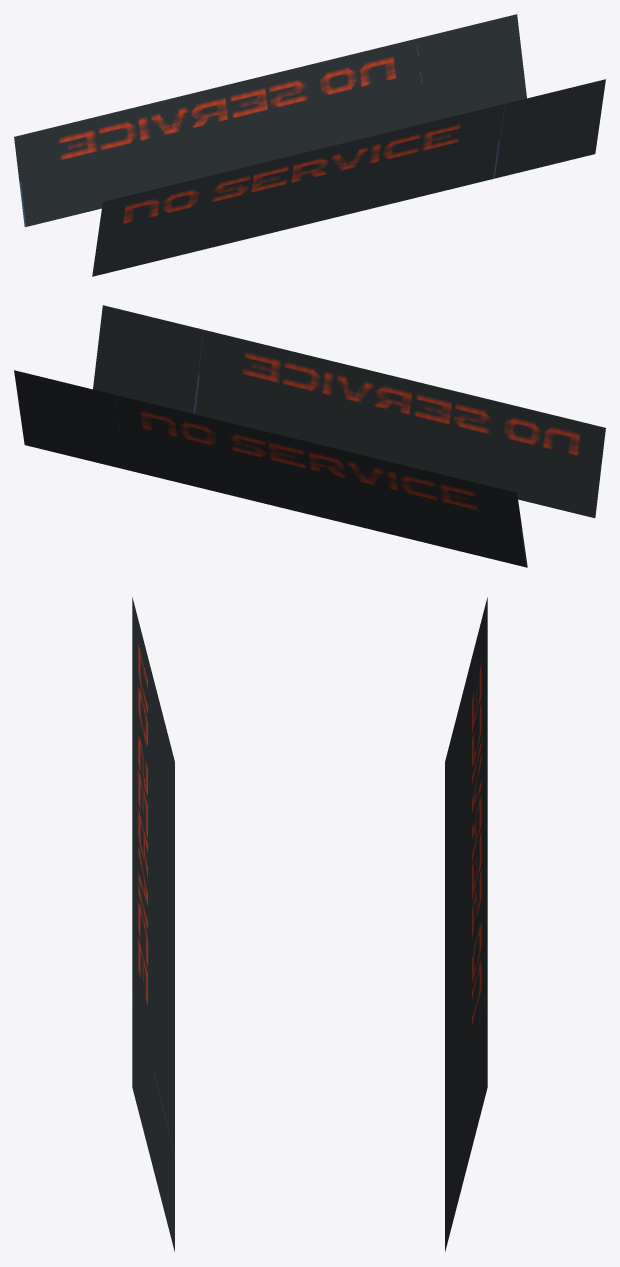
Rendered from SW_PROP_NextTrainSign_NoService.fbx.
3 views of the same model, one above another, from view 1: azimuth 30°, elevation 25°; view 2: azimuth 150°, elevation 25°; view 3: azimuth 270°, elevation 25° (orthographic). The views are drawn at different scales.
Parts seen in each view (by area): view 1: SW_PROP_NextTrainSign_NoService; view 2: SW_PROP_NextTrainSign_NoService; view 3: SW_PROP_NextTrainSign_NoService.
Boxes of the visible parts, x1,y1,x2,y2 form: SW_PROP_NextTrainSign_NoService: (14,14,605,276); SW_PROP_NextTrainSign_NoService: (14,305,605,567); SW_PROP_NextTrainSign_NoService: (132,597,487,1251).
Size of the model in its own units: 171 by 26.78 by 52.15.
